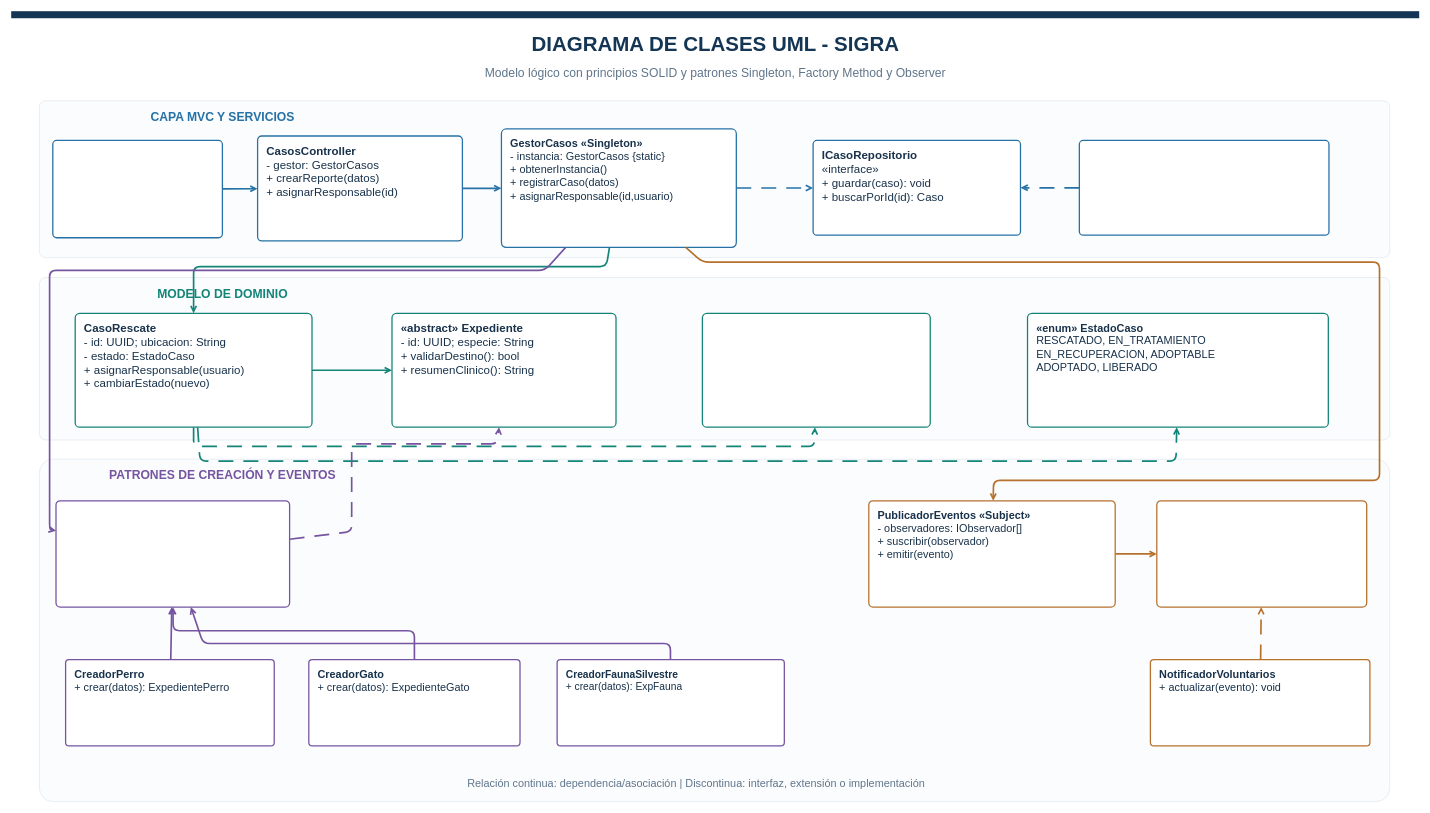
Image size: 1430x813. Some labels were removed from this diagram. Here are the shapes that lost their labels. From the top down, the box of each, then its label:
(52, 140, 223, 238): VistaWeb «View» + mostrarCasos() + mostrarFormulario()
(1078, 140, 1329, 236): RepositorioSQL + guardar(caso): void + buscarPorId(id): Caso
(701, 312, 931, 428): Responsable - id: UUID; rol: Rol - nombre: String + recibirAviso(evento)
(55, 500, 290, 607): «abstract» CreadorExpediente + crear(datos): Expediente {Factory Method}
(1156, 500, 1367, 607): «interface» IObservador + actualizar(evento): void {Observer}
